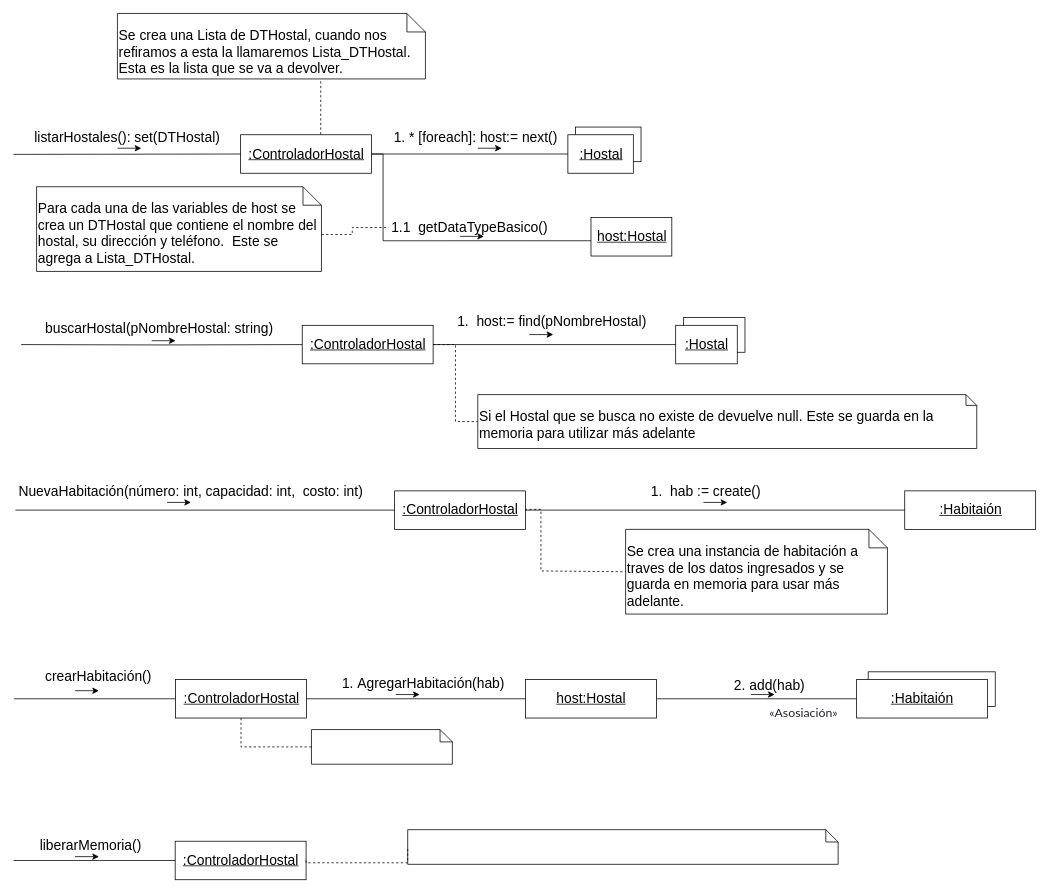
Some shapes in this 1050 by 893 pixel diagram are drawn without their labels. Here are the shapes that lost their labels. From the top down, the centre of each, then its label:
[381,746]: Se libera la memoria.
[622,846]: Se elimina la instancia host y hab (que no se asignara a host)
